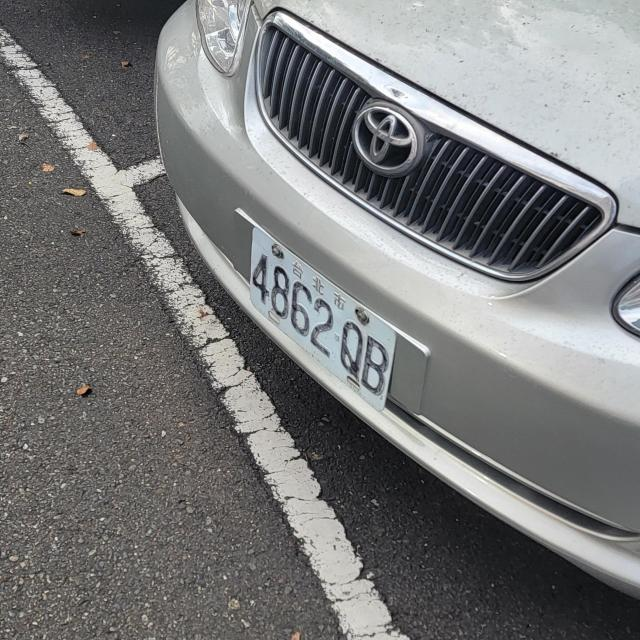W: (241, 233, 412, 416)
